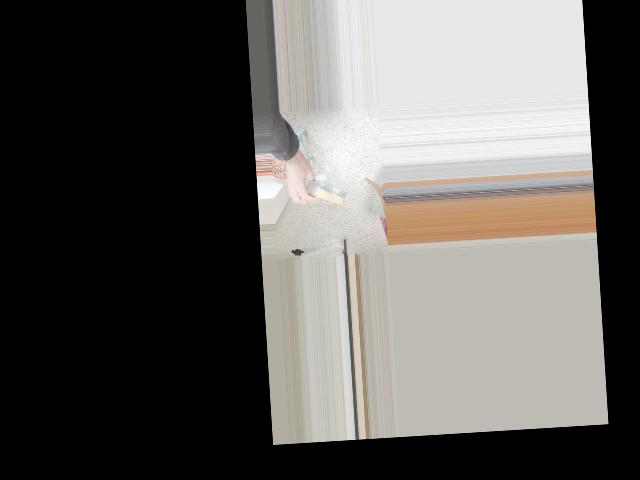cheese: (294, 173, 350, 211)
